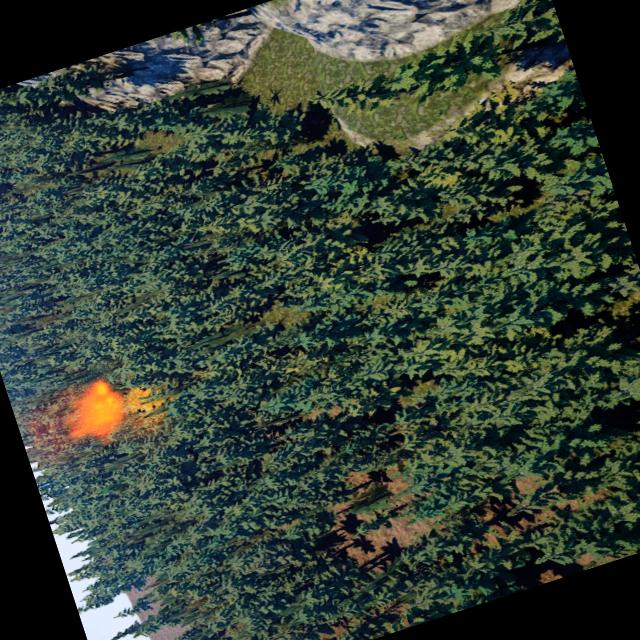fire: (72, 362, 172, 448)
smoke: (11, 386, 94, 464)
